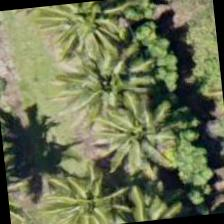Kelapa_Sawit: (85, 88, 184, 187), (56, 42, 154, 141), (38, 150, 137, 223), (36, 0, 133, 74)
